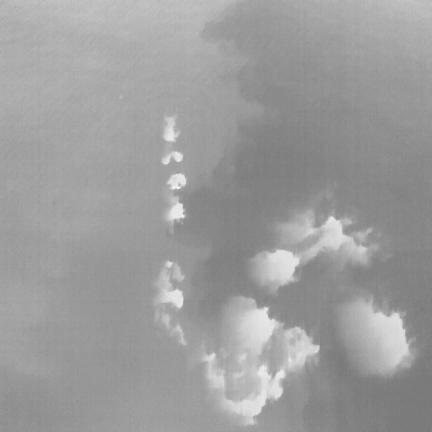flukeprints: (335, 299, 412, 375), (221, 365, 285, 424), (221, 296, 275, 356), (296, 217, 348, 263), (248, 249, 299, 293), (279, 327, 319, 374), (202, 353, 223, 395), (163, 116, 180, 142), (167, 197, 184, 223), (161, 289, 183, 308), (167, 173, 186, 189), (171, 151, 183, 162), (165, 261, 174, 268)
